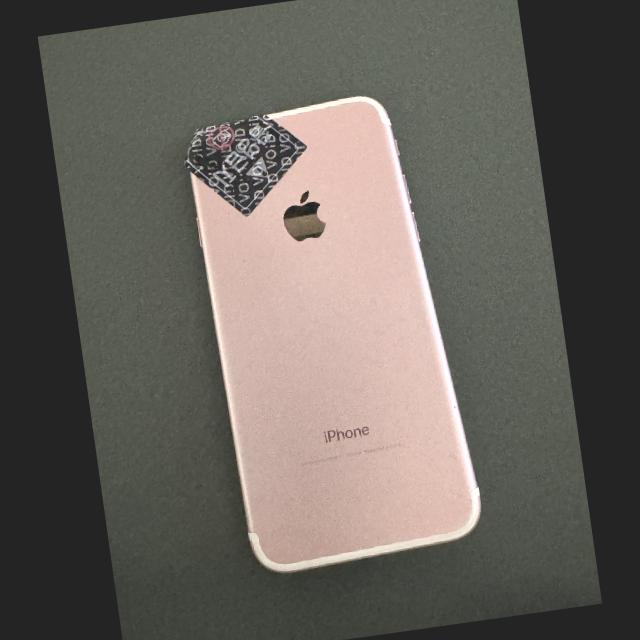phone: (186, 97, 480, 571)
sticker: (183, 114, 308, 217)
